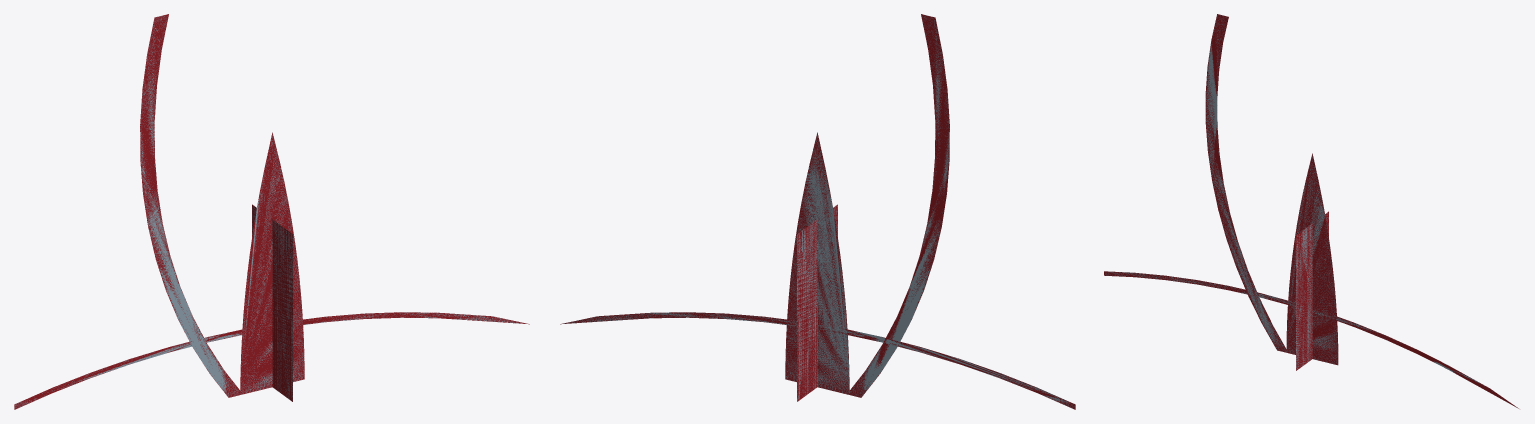
Rendered from Ligth-Optional.fbx.
The picture shows the model from 3 angles, left to right: view 1: azimuth 30°, elevation 25°; view 2: azimuth 150°, elevation 25°; view 3: azimuth 330°, elevation 25°; orthographic projection. The views are drawn at different scales.
Visible parts, largest first — view 1: Group4, Group3, Group1, Group5; view 2: Group4, Group3, Group1, Group5; view 3: Group4, Group3, Group1, Group5.
Part boxes in pixels (left/top/right/bottom): Group4: left=240, top=132, right=304, bottom=394; Group3: left=140, top=14, right=242, bottom=397; Group1: left=252, top=204, right=292, bottom=401; Group5: left=14, top=312, right=529, bottom=409; Group4: left=785, top=132, right=849, bottom=394; Group3: left=847, top=14, right=949, bottom=397; Group1: left=797, top=204, right=837, bottom=401; Group5: left=560, top=312, right=1075, bottom=409; Group4: left=1286, top=153, right=1338, bottom=365; Group3: left=1205, top=14, right=1288, bottom=353; Group1: left=1296, top=211, right=1328, bottom=370; Group5: left=1104, top=271, right=1518, bottom=408.
Size of the model in its own units: 0.7067 by 0.5214 by 0.0977.
